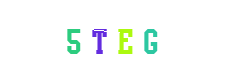5: (59, 0, 139, 80)
E: (75, 0, 155, 80)
G: (84, 0, 164, 80)
T: (71, 0, 151, 80)
